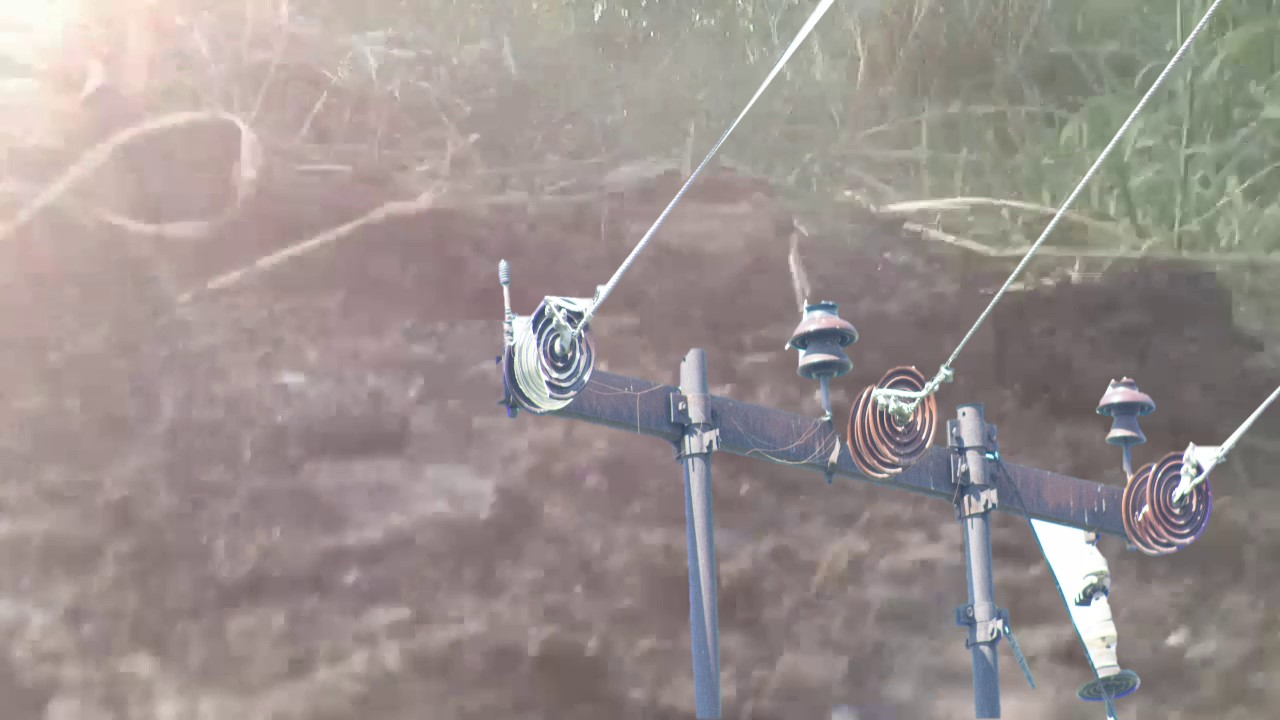defect_disc: (529, 292, 599, 405)
insulator_disc: (866, 356, 941, 469), (1146, 448, 1214, 551)
